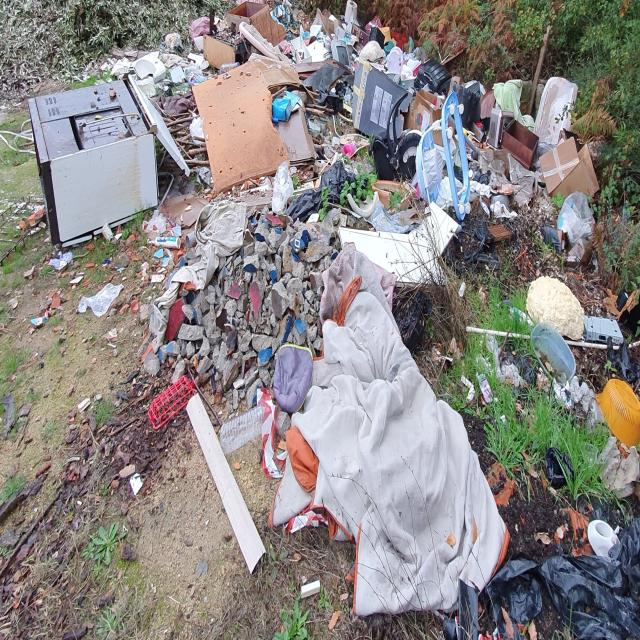garbage: (4, 0, 640, 613)
